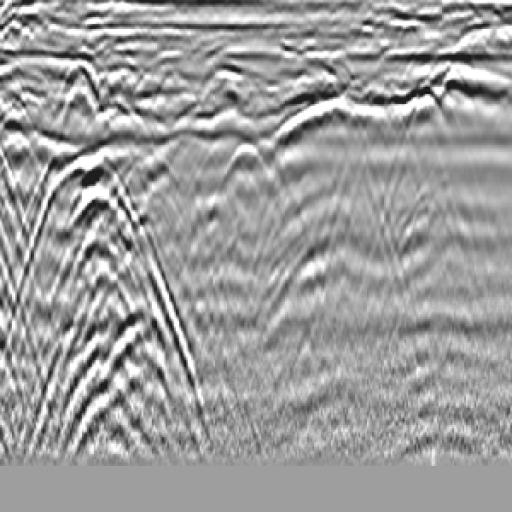metalic: (161, 124, 344, 273)
